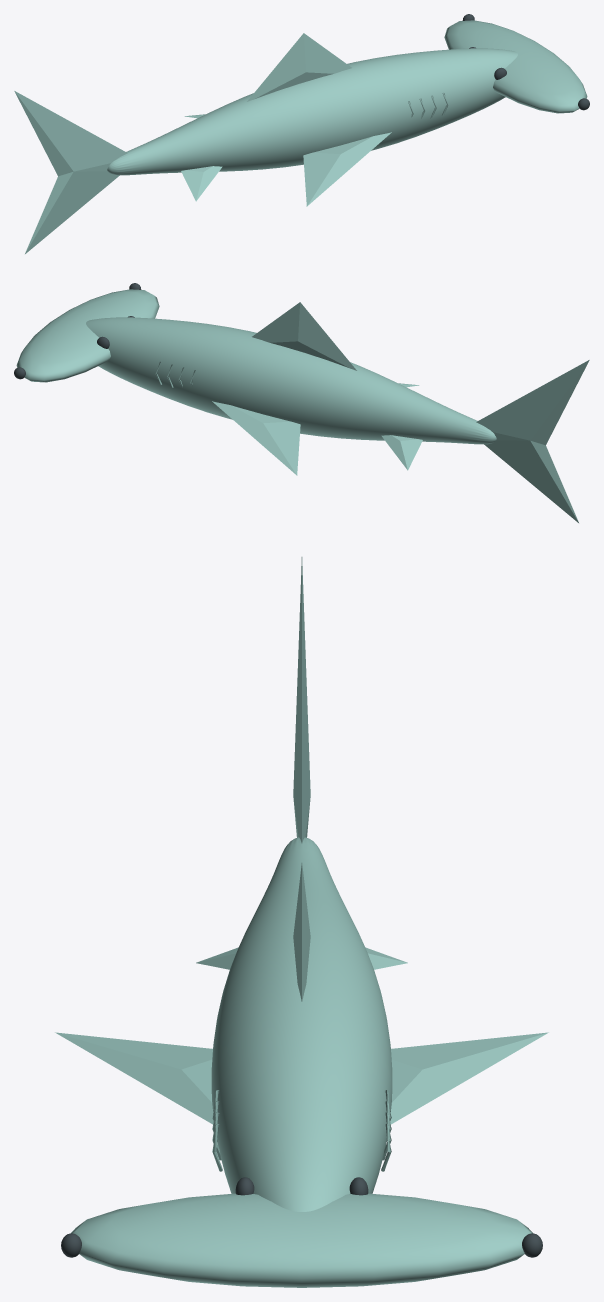
The picture shows the model from 3 angles, top to bottom: view 1: azimuth 30°, elevation 25°; view 2: azimuth 150°, elevation 25°; view 3: azimuth 270°, elevation 25°; orthographic projection. The views are drawn at different scales.
Visible parts, largest first — view 1: Body, Tail, Hammer head, Dorsal, Pectoral, Pelvic; view 2: Body, Tail, Hammer head, Dorsal, Pectoral.001, Pelvic.001; view 3: Body, Hammer head, Pectoral.001, Pectoral, Tail, Dorsal.
Part boxes in pixels (box(x1,y1,x2,y2)): Body: box(107, 48, 517, 175); Tail: box(14, 91, 127, 253); Hammer head: box(444, 20, 587, 113); Dorsal: box(247, 33, 351, 101); Pectoral: box(303, 132, 391, 206); Pelvic: box(181, 166, 222, 201); Body: box(86, 317, 496, 444); Tail: box(476, 360, 589, 522); Hammer head: box(16, 289, 159, 382); Dorsal: box(252, 302, 356, 370); Pectoral.001: box(212, 401, 300, 475); Pelvic.001: box(381, 435, 422, 470); Body: box(211, 837, 392, 1211); Hammer head: box(70, 1193, 533, 1287); Pectoral.001: box(390, 1032, 548, 1124); Pectoral: box(55, 1032, 213, 1124); Tail: box(293, 557, 310, 843); Dorsal: box(293, 863, 310, 1001).
Bounding box in the file's own units: 258 × 76 × 102.
